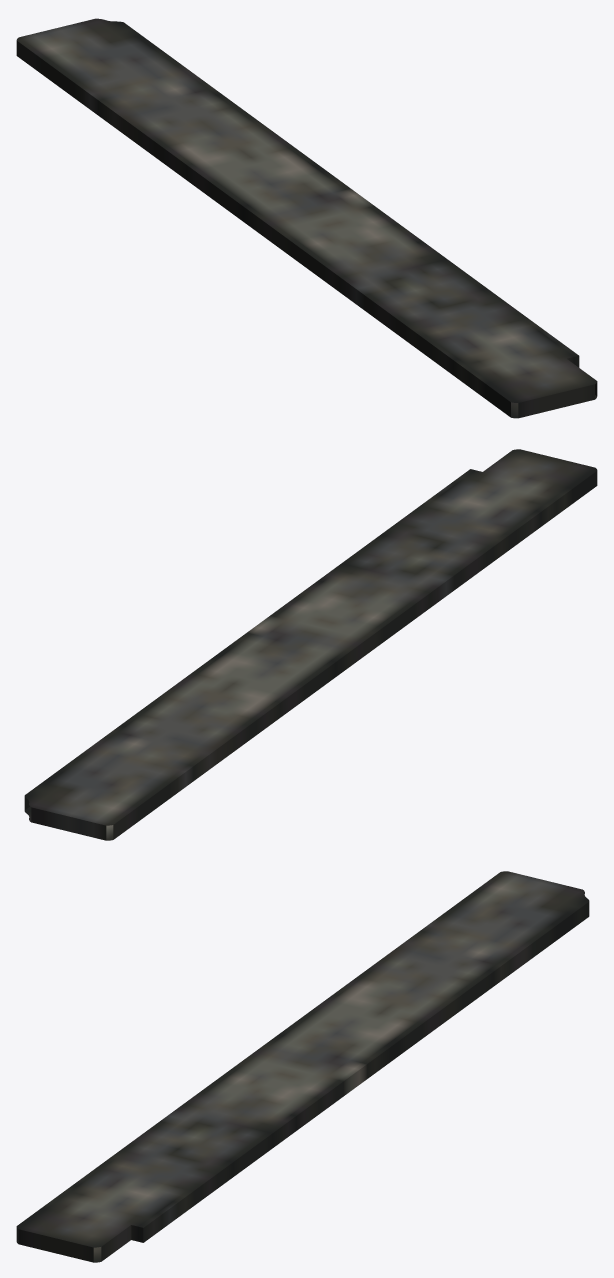
File: SM_EC_Fence_Part_39.fbx
3 renders of one model, top to bottom at view 1: azimuth 30°, elevation 25°; view 2: azimuth 150°, elevation 25°; view 3: azimuth 330°, elevation 25°, orthographic. The views are drawn at different scales.
Visible parts, largest first — view 1: SM_EC_Fence_Part_39; view 2: SM_EC_Fence_Part_39; view 3: SM_EC_Fence_Part_39.
Part boxes in pixels (box(x1,y1,x2,y2)): SM_EC_Fence_Part_39: box(16, 18, 597, 418); SM_EC_Fence_Part_39: box(24, 449, 597, 840); SM_EC_Fence_Part_39: box(16, 871, 589, 1262).
Size of the model in its own units: 0.1219 by 1.07 by 0.0181.
